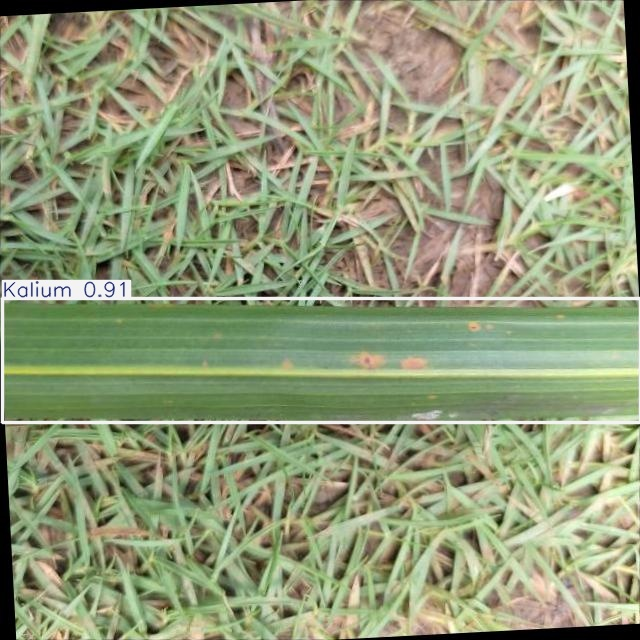Kalium: (2, 298, 640, 423)
